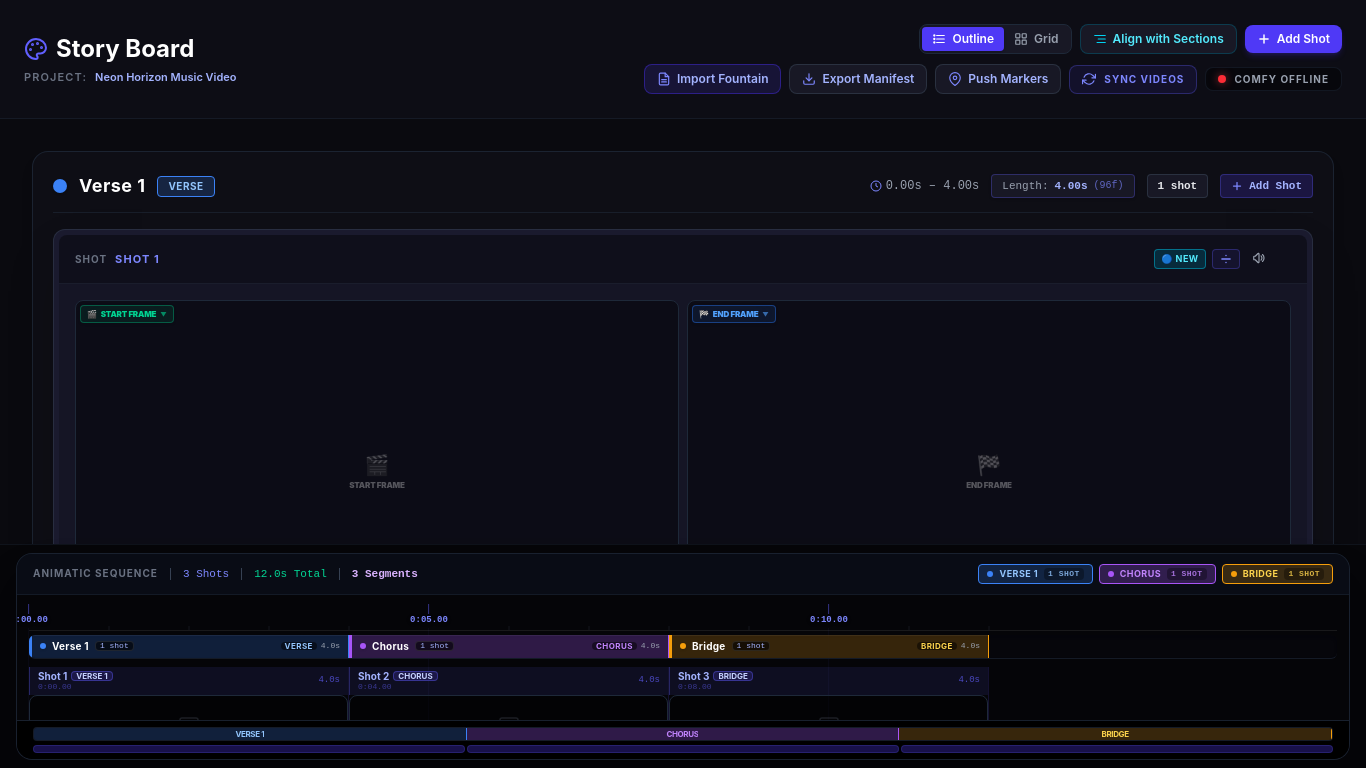
Test: StoryboardModule › switches to flat grid view when Grid toggle is clicked and renders all cards plus trailing Add Shot card
Click the button "Grid" at [1036, 39], box [1004,27,1068,51]
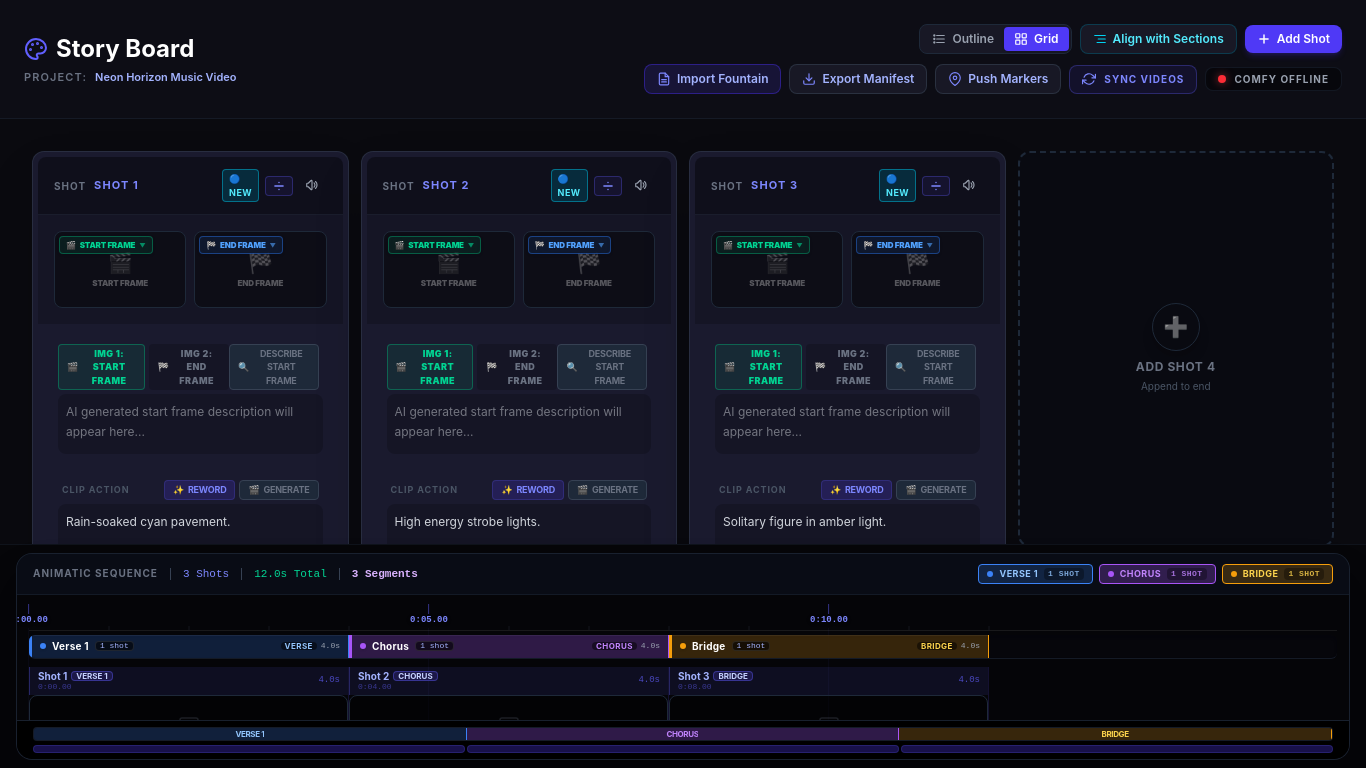
Result: the 1st text box showing "Rain-soaked cyan pavement." is shown at [58,504,322,544]
Result: the 2nd text box showing "High energy strobe lights." is shown at [386,504,651,544]
Result: the 3rd text box showing "Solitary figure in amber light." is shown at [715,504,980,544]
